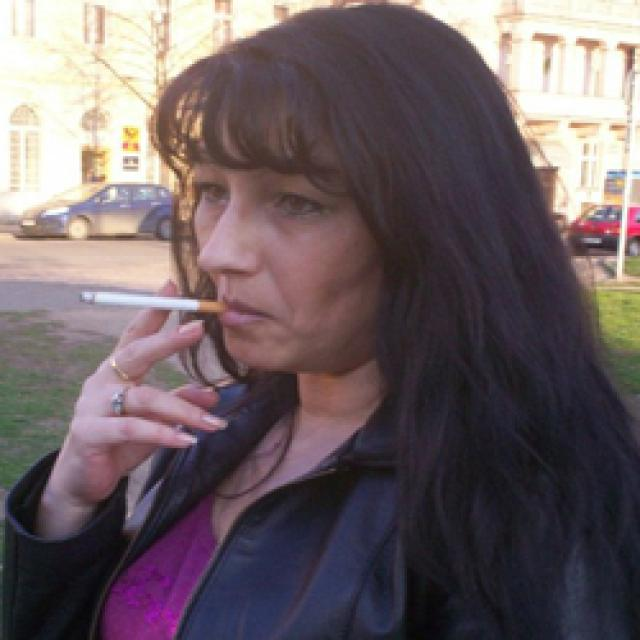Smooking: (73, 283, 225, 321)
